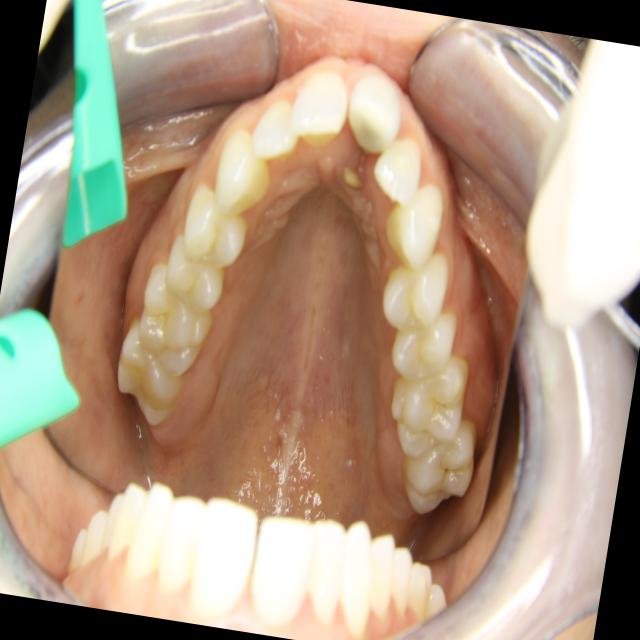tooth: (375, 342, 480, 472), (125, 257, 226, 385), (386, 403, 485, 530), (106, 313, 197, 434), (172, 168, 259, 281), (373, 169, 454, 283), (201, 119, 284, 227), (153, 220, 237, 323), (382, 299, 467, 394), (374, 245, 455, 343), (339, 61, 411, 170), (284, 60, 357, 154), (365, 127, 432, 215), (244, 84, 305, 173)
